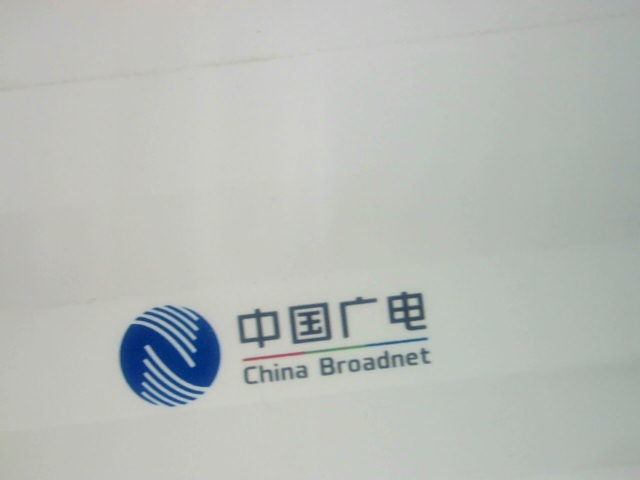AW_ChinaBroadNet: (106, 287, 445, 408)
